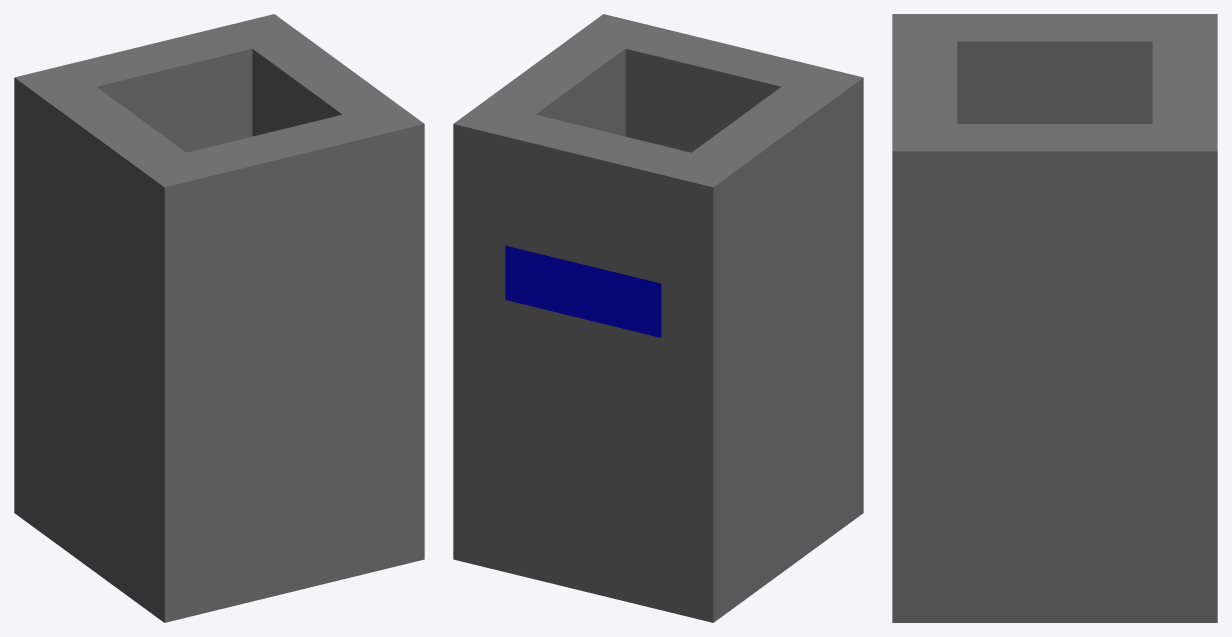
Rendered from Trash can1.fbx.
3 views of the same model, side by side, from view 1: azimuth 30°, elevation 25°; view 2: azimuth 150°, elevation 25°; view 3: azimuth 270°, elevation 25° (orthographic). The views are drawn at different scales.
Parts seen in each view (by area): view 1: 立方体.122, 立方体.058, 立方体.001, 立方体.090, 立方体.106, 立方体.074, 立方体.042, 立方体.026, 立方体.124, 立方体.123, 立方体.125, 立方体.136 (+70 smaller); view 2: 立方体.133, 立方体.069, 立方体.021, 立方体.101, 立方体.117, 立方体.085, 立方体.053, 立方体.037, 立方体.135, 立方体.134, 立方体.136, 立方体.125 (+70 smaller); view 3: 立方体.129, 立方体.130, 立方体.126, 立方体.127, 立方体.128, 立方体.131, 立方体.132, 立方体.137, 立方体.082, 立方体.098, 立方体.114, 立方体.078 (+42 smaller).
Boxes of the visible parts, box(x1,y1,x2,y2) form: 立方体.122: box(134, 152, 216, 241); 立方体.058: box(134, 383, 216, 459); 立方体.001: box(134, 546, 216, 622); 立方体.090: box(134, 274, 216, 350); 立方体.106: box(134, 220, 216, 296); 立方体.074: box(134, 329, 216, 404); 立方体.042: box(134, 438, 216, 513); 立方体.026: box(134, 492, 216, 568); 立方体.124: box(239, 127, 320, 216); 立方体.123: box(187, 140, 268, 228); 立方体.125: box(291, 114, 372, 203); 立方体.136: box(171, 26, 252, 115); 立方体.133: box(661, 152, 743, 241); 立方体.069: box(661, 383, 743, 459); 立方体.021: box(661, 546, 743, 622); 立方体.101: box(661, 274, 743, 350); 立方体.117: box(661, 220, 743, 296); 立方体.085: box(661, 329, 743, 404); 立方体.053: box(661, 438, 743, 513); 立方体.037: box(661, 492, 743, 568); 立方体.135: box(557, 127, 638, 216); 立方体.134: box(609, 140, 690, 228); 立方体.136: box(505, 114, 586, 203); 立方体.125: box(625, 26, 706, 115); 立方体.129: box(1022, 14, 1087, 100); 立方体.130: box(1022, 124, 1087, 210); 立方体.126: box(892, 124, 957, 210); 立方体.127: box(957, 14, 1022, 100); 立方体.128: box(957, 124, 1022, 210); 立方体.131: box(1087, 14, 1152, 100); 立方体.132: box(1087, 124, 1152, 210); 立方体.137: box(1152, 124, 1217, 210); 立方体.082: box(1022, 328, 1087, 387); 立方体.098: box(1022, 269, 1087, 328); 立方体.114: box(1022, 210, 1087, 269); 立方体.078: box(892, 328, 957, 387).
Bounding box in the file's own units: 500 × 800 × 500.
